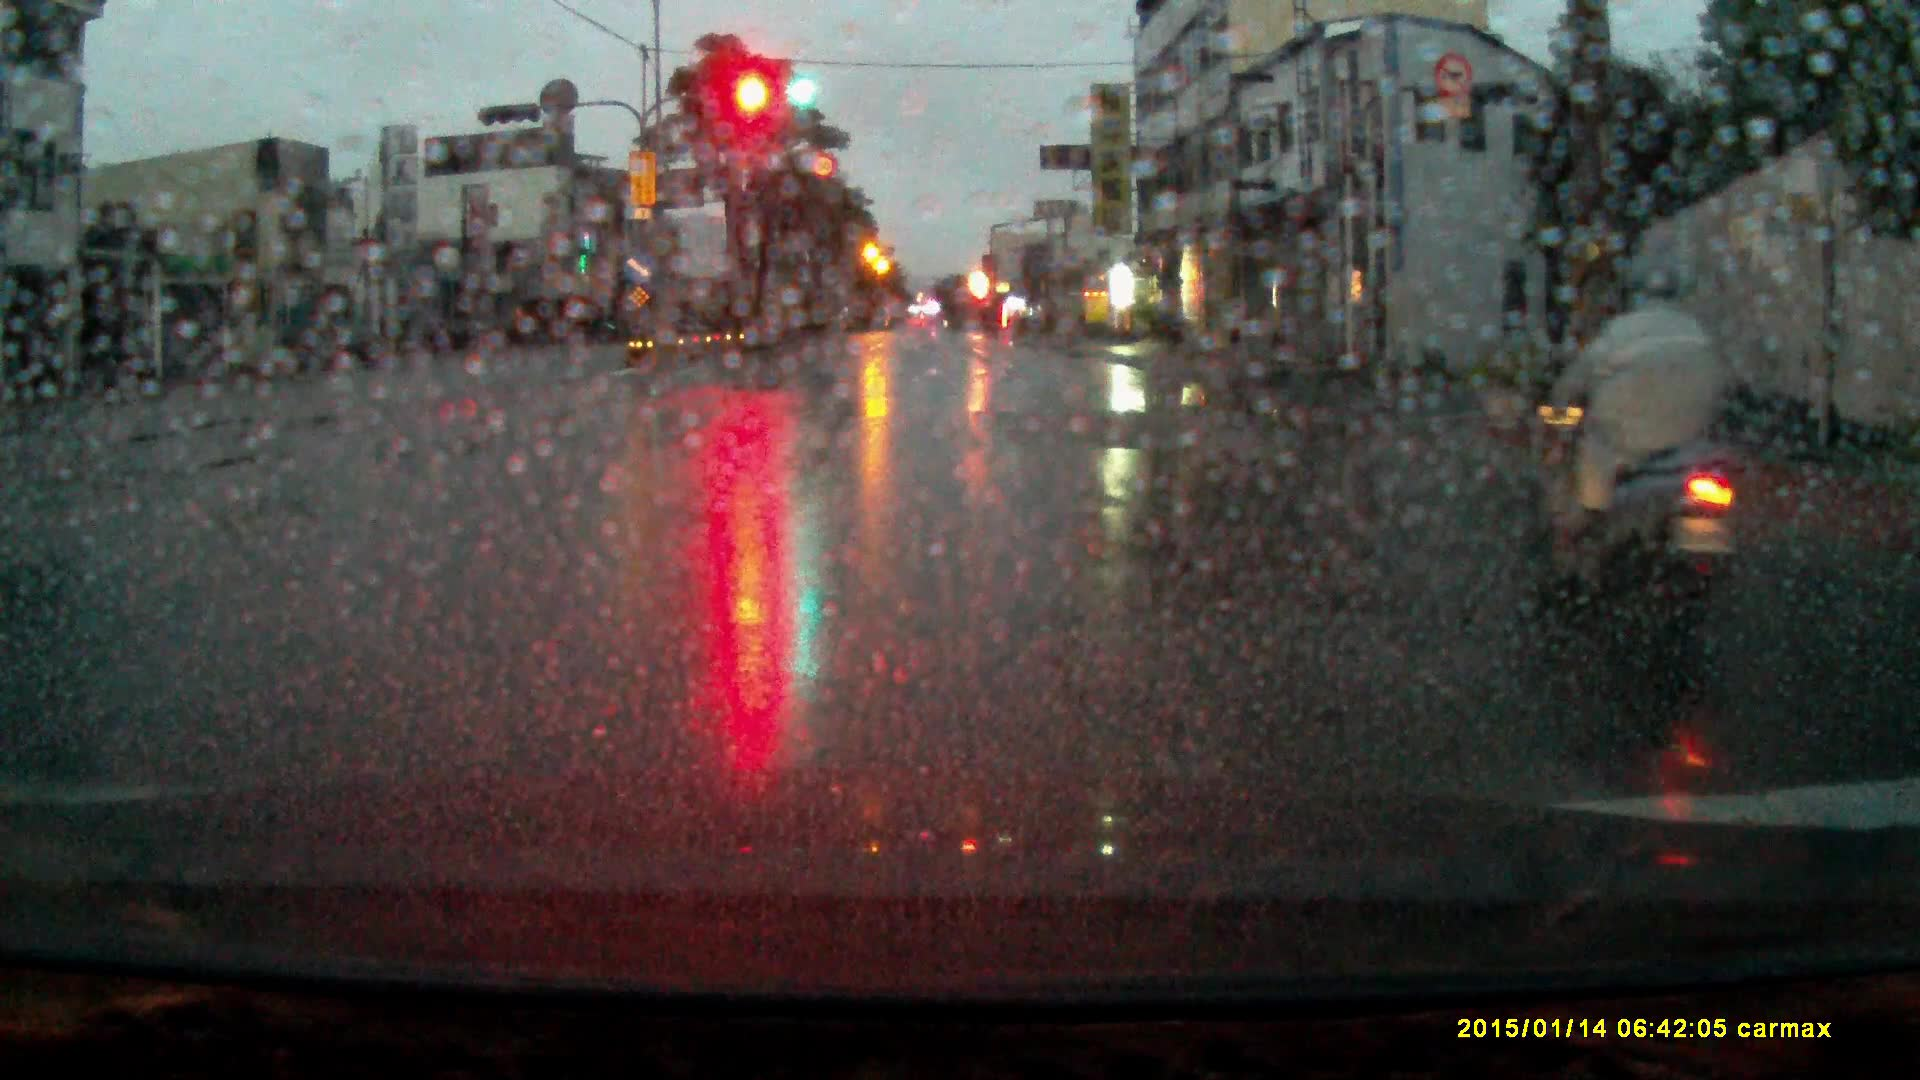rider: (1522, 249, 1749, 650)
